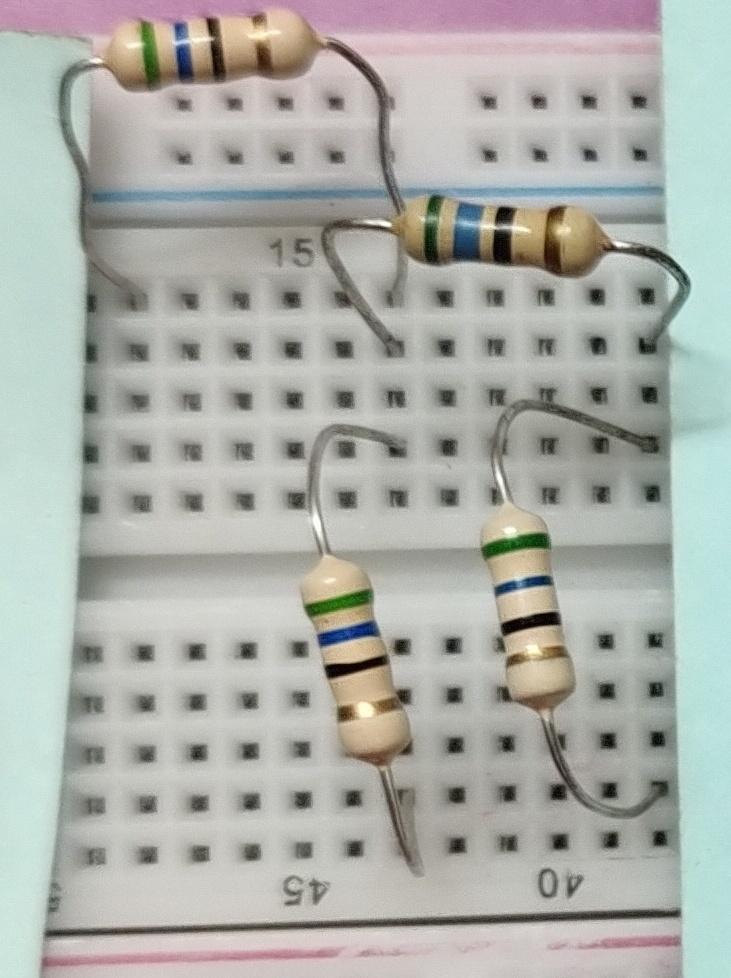resistor: (290, 545, 428, 775), (383, 175, 615, 300), (90, 0, 328, 110), (470, 498, 582, 730)
